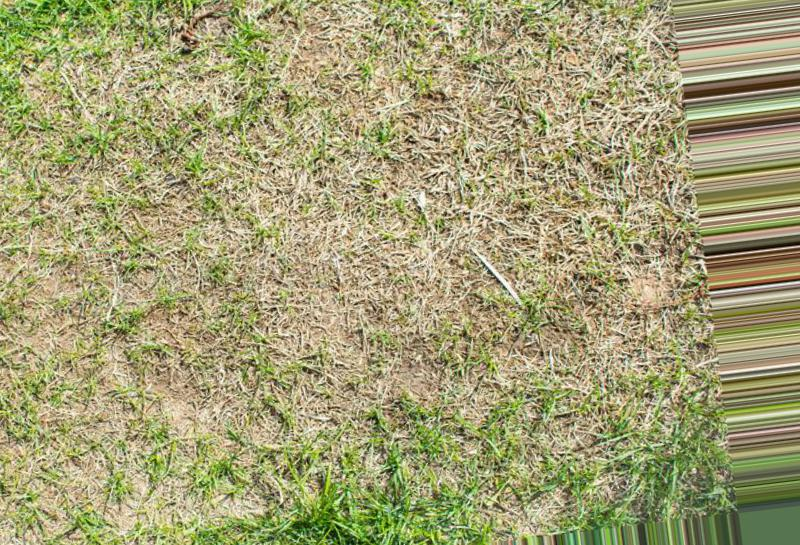patch: (58, 86, 605, 479)
